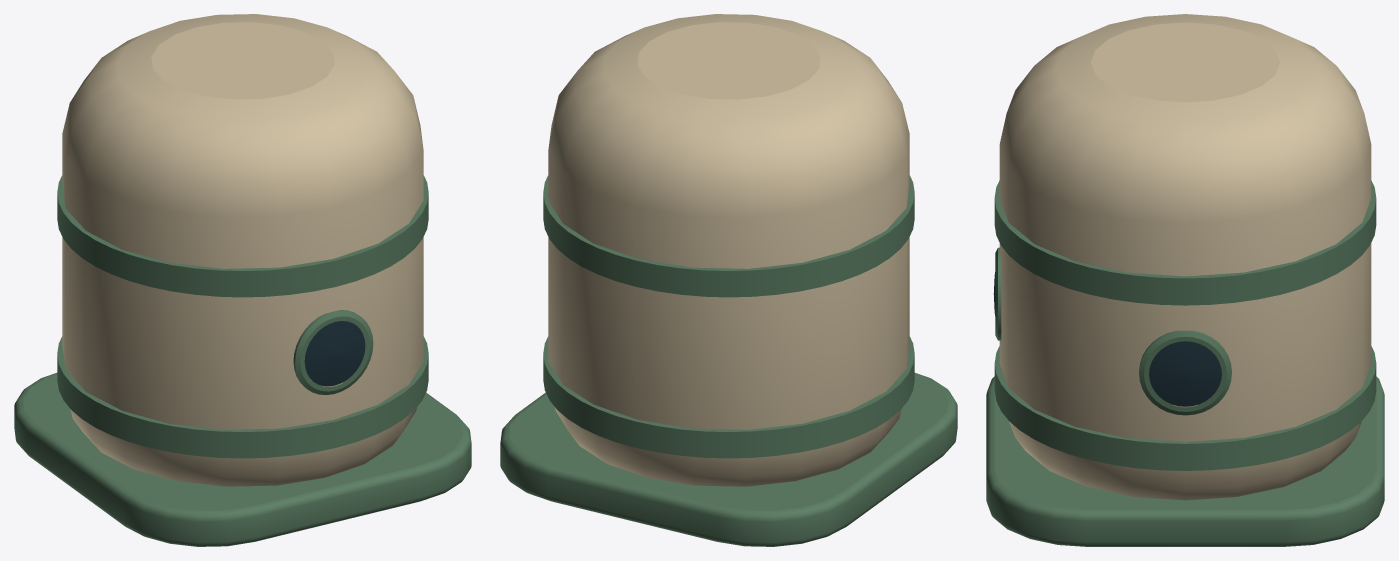
File: t200_water.obj
3 renders of one model, left to right at view 1: azimuth 30°, elevation 25°; view 2: azimuth 150°, elevation 25°; view 3: azimuth 270°, elevation 25°, orthographic. The views are drawn at different scales.
Visible parts, largest first — view 1: t200_water; view 2: t200_water; view 3: t200_water.
Boxes of the visible parts, <box> form: t200_water: <box>14,14,471,546</box>; t200_water: <box>500,14,957,546</box>; t200_water: <box>986,14,1384,546</box>.
Size of the model in its own units: 2.4 by 2.68 by 2.4.
